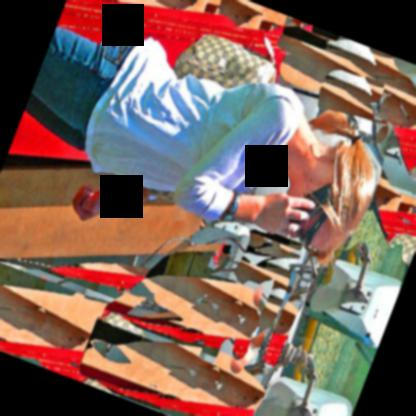handbag: (171, 33, 276, 89)
